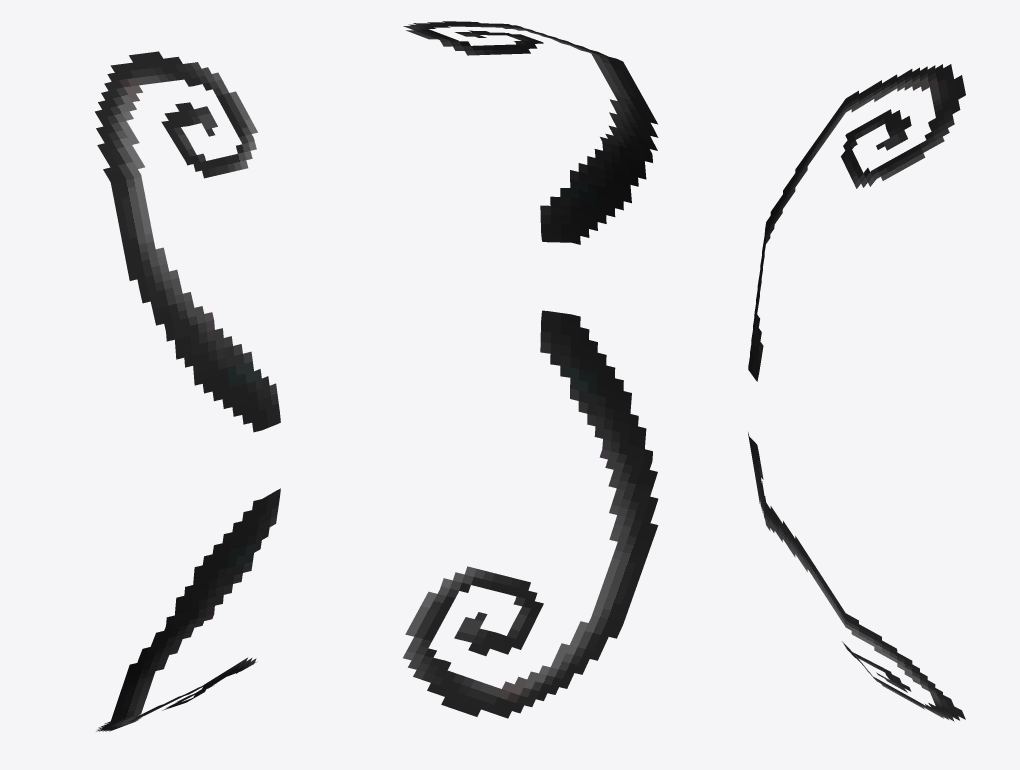
File: acc_mustache_curly.dae
3 renders of one model, left to right at view 1: azimuth 30°, elevation 25°; view 2: azimuth 150°, elevation 25°; view 3: azimuth 270°, elevation 25°, orthographic. The views are drawn at different scales.
Parts seen in each view (by area): view 1: acc_mustache_curly; view 2: acc_mustache_curly; view 3: acc_mustache_curly.
Boxes of the visible parts, <box> form: acc_mustache_curly: <box>95,51,280,731</box>; acc_mustache_curly: <box>403,21,658,718</box>; acc_mustache_curly: <box>748,64,965,721</box>.
Bounding box in the file's own units: 6.3 × 19.76 × 7.19.
Materials: 1 (1 with a texture image).
